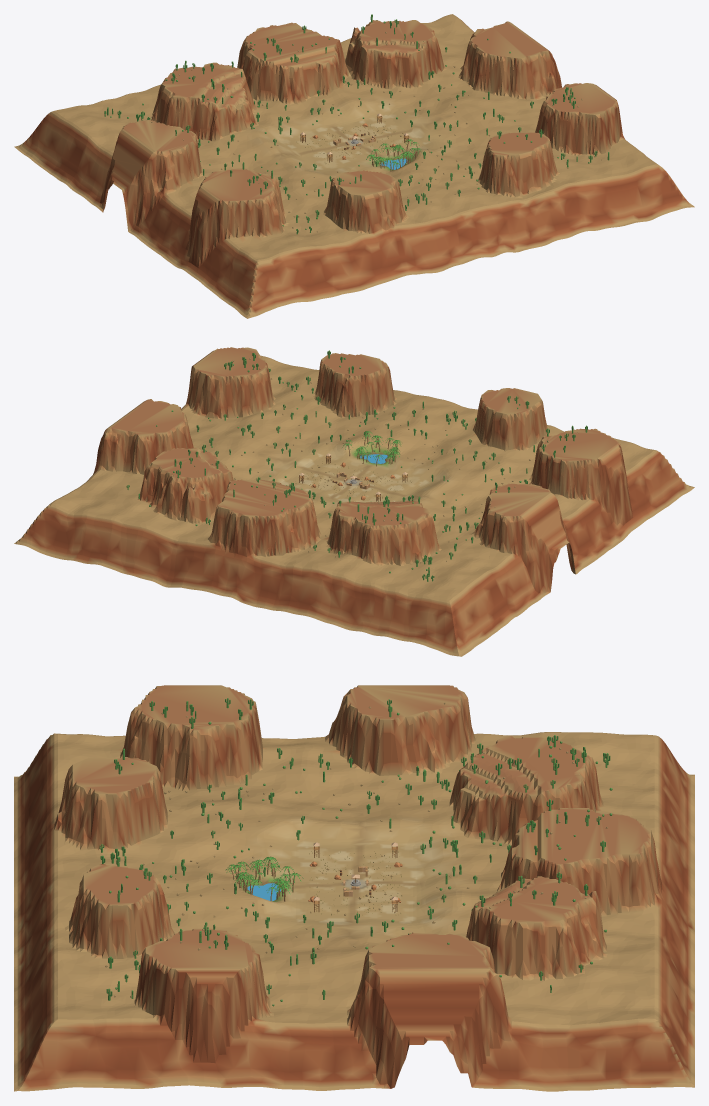
Rendered from desert.glb.
The picture shows the model from 3 angles, top to bottom: view 1: azimuth 30°, elevation 25°; view 2: azimuth 150°, elevation 25°; view 3: azimuth 270°, elevation 25°; orthographic projection. The views are drawn at different scales.
Visible parts, largest first — view 1: Terrain; view 2: Terrain; view 3: Terrain.
Boxes of the visible parts, x1=… form: Terrain: x1=14, y1=14, x2=694, y2=318; Terrain: x1=14, y1=347, x2=694, y2=656; Terrain: x1=14, y1=685, x2=694, y2=1091.
Bounding box in the file's own units: 309 × 55.48 × 279.
